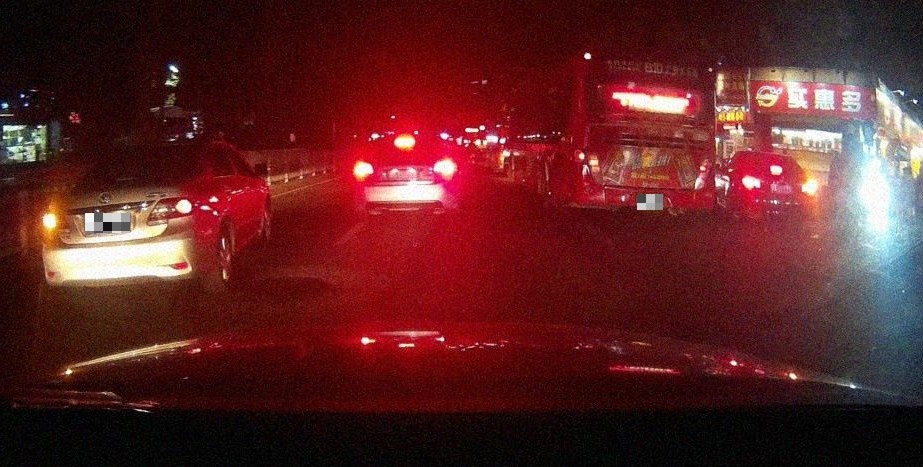L_light: (583, 146, 604, 187), (40, 208, 71, 232), (353, 161, 374, 180), (742, 175, 762, 190)
R_light: (147, 195, 196, 226), (692, 157, 713, 190), (433, 159, 456, 177), (801, 180, 816, 195)
T_light: (638, 106, 667, 114), (392, 138, 416, 147), (142, 145, 166, 151), (770, 166, 783, 174)
night-brake: (353, 131, 458, 217)
night-left: (39, 140, 206, 294)
night-no: (570, 37, 717, 217)
night-right: (733, 151, 818, 222)
plate_1: (85, 213, 130, 233)
plate_2: (637, 194, 663, 210)
